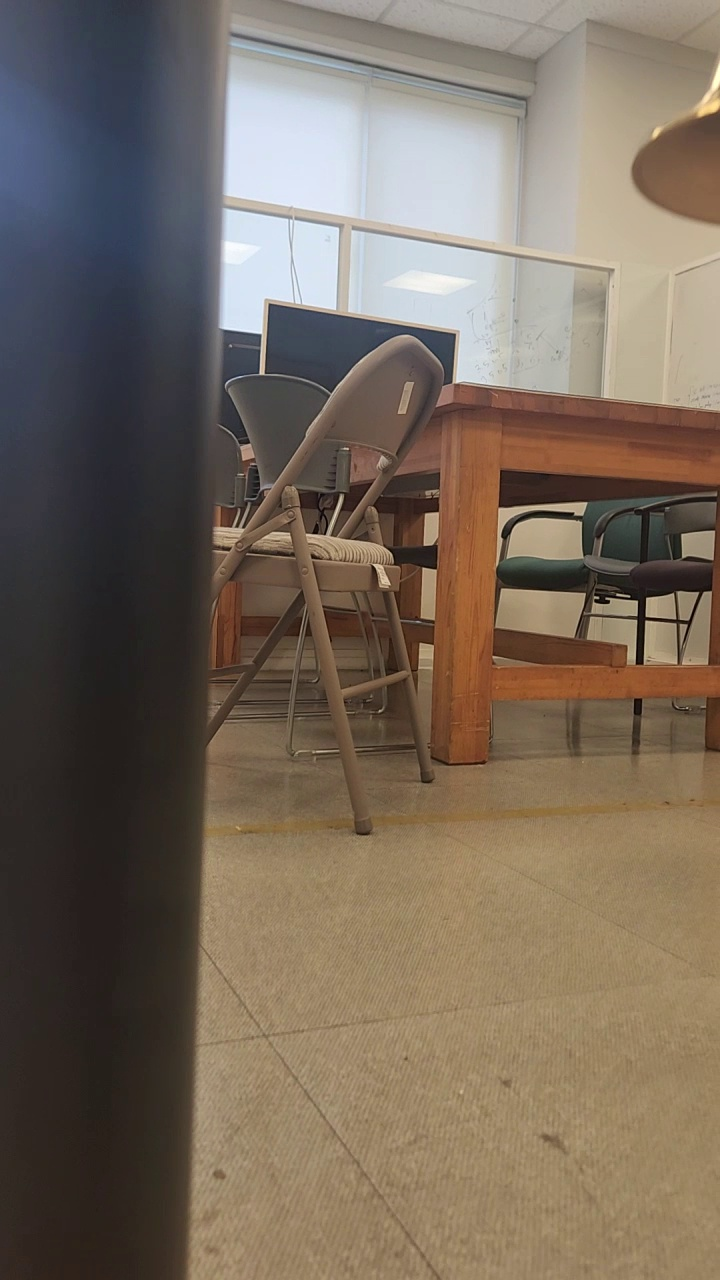pole: (0, 0, 225, 1279)
